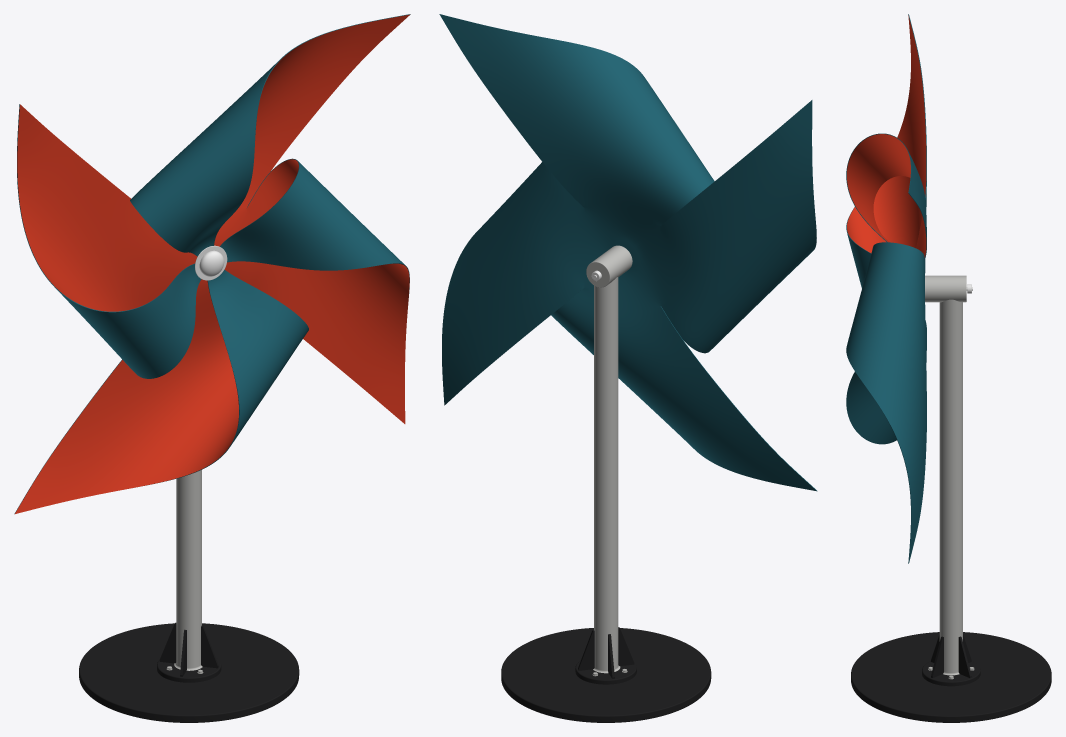
Rendered from pinwheel.glb.
3 renders of one model, left to right at view 1: azimuth 30°, elevation 25°; view 2: azimuth 150°, elevation 25°; view 3: azimuth 270°, elevation 25°, orthographic. The views are drawn at different scales.
Visible parts, largest first — view 1: sheet, stand, hub; view 2: sheet, stand; view 3: sheet, stand.
Boxes of the visible parts, x1,y1,x2,y2 form: sheet: [14, 14, 410, 514]; stand: [79, 470, 299, 722]; hub: [195, 245, 227, 280]; sheet: [439, 14, 817, 491]; stand: [501, 245, 711, 722]; sheet: [846, 14, 926, 563]; stand: [851, 275, 1051, 722].
Size of the model in its own units: 1.35 by 2.08 by 0.6651.
